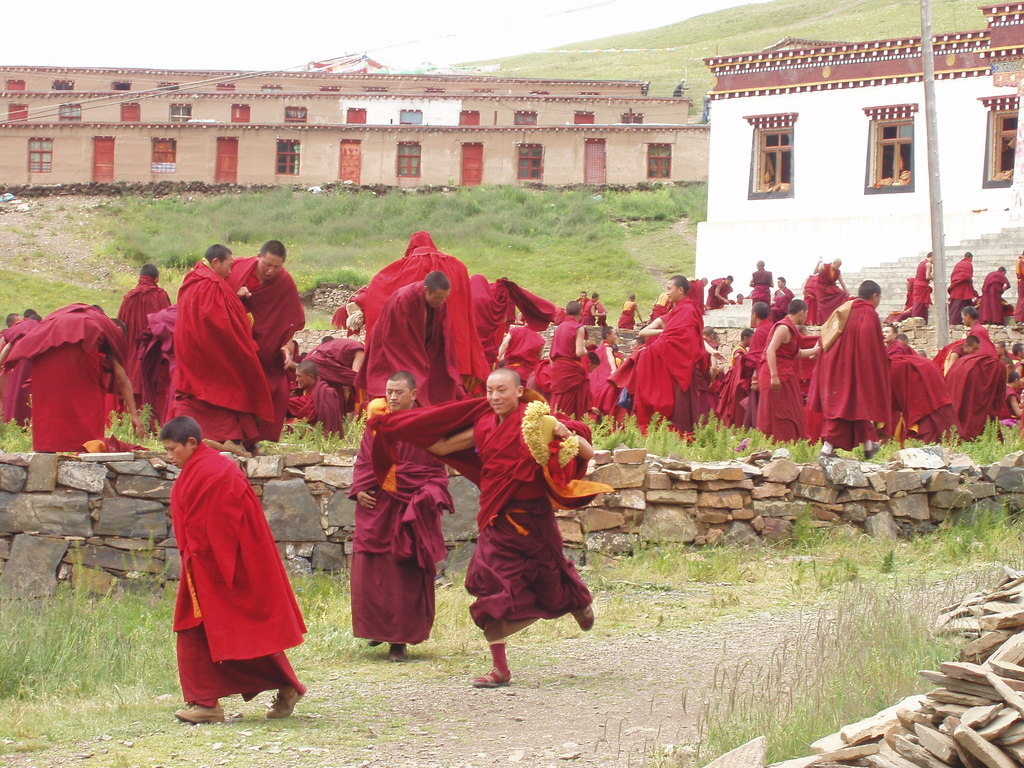Person: (0, 230, 1024, 723)
